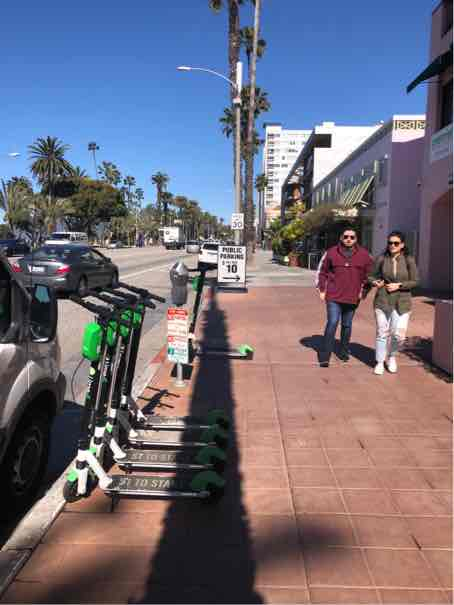too close: (42, 459, 107, 518)
